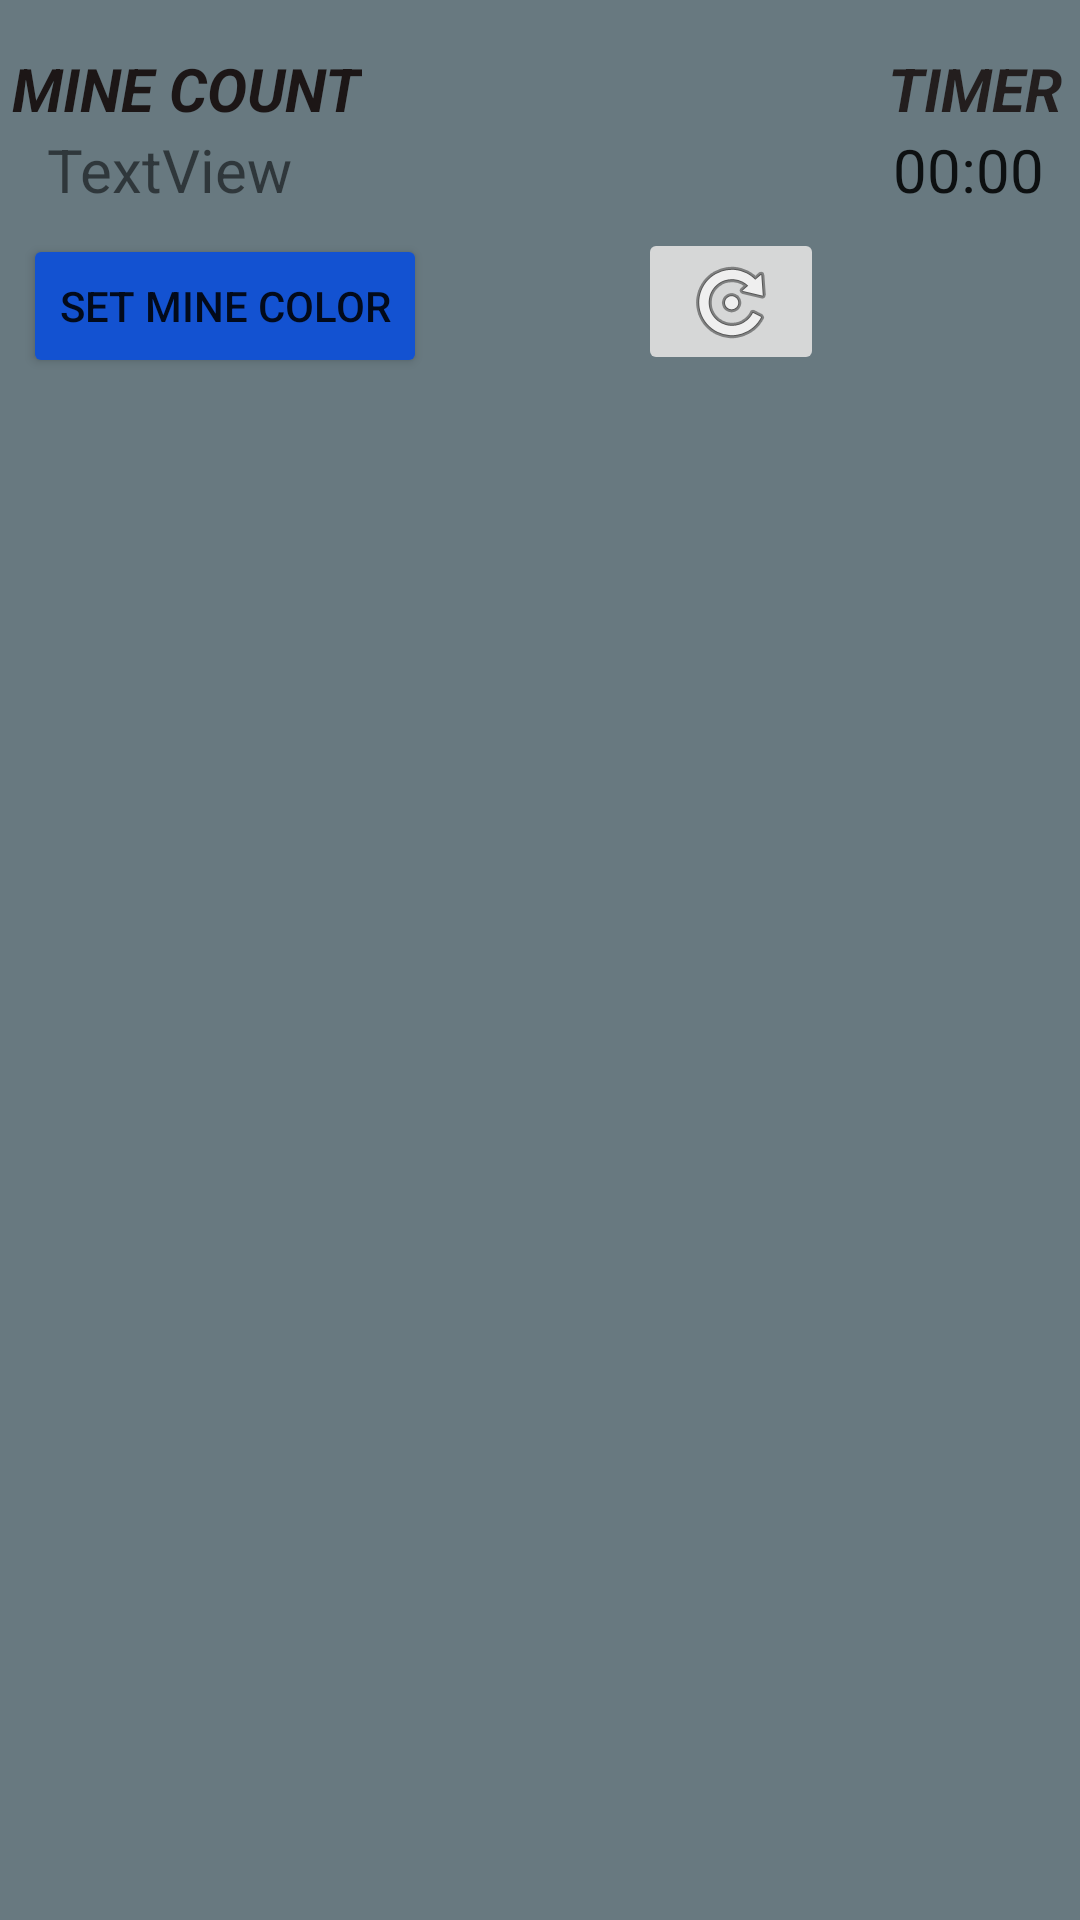

Locate icon controls on the screen. Image size 1080w x 1920h, boxes as (x1, y1, x2, y2).
rotate: (650, 246, 812, 357)
